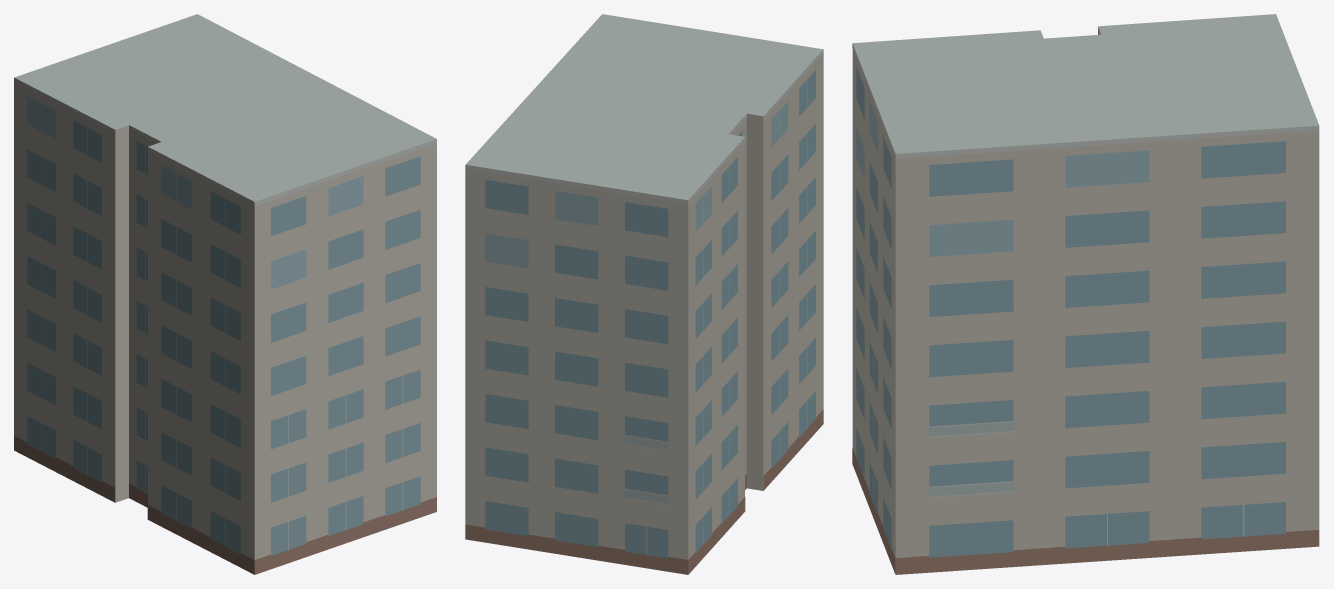
File: survey-upis-32575019.glb
The picture shows the model from 3 angles, left to right: view 1: azimuth 30°, elevation 25°; view 2: azimuth 150°, elevation 25°; view 3: azimuth 270°, elevation 25°; orthographic projection. The views are drawn at different scales.
Parts seen in each view (by area): view 1: survey-upis-32575019.tmp; view 2: survey-upis-32575019.tmp; view 3: survey-upis-32575019.tmp.
Boxes of the visible parts, x1,y1,x2,y2 form: survey-upis-32575019.tmp: [14, 14, 436, 574]; survey-upis-32575019.tmp: [465, 14, 823, 574]; survey-upis-32575019.tmp: [852, 14, 1319, 574].
Size of the model in its own units: 14.88 by 20.85 by 20.97.
